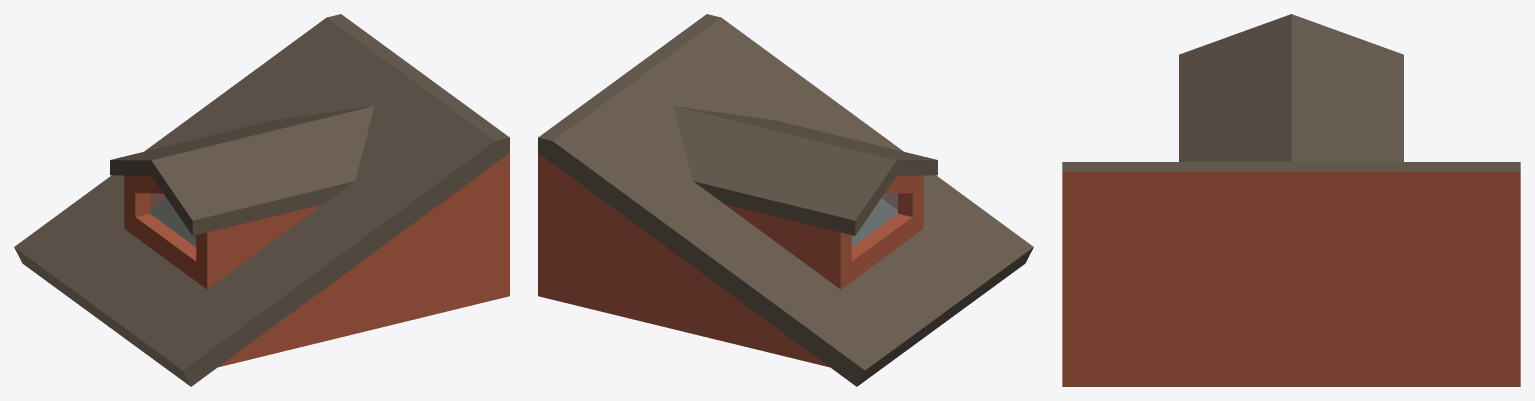
File: modularBuildings_063.obj
3 renders of one model, left to right at view 1: azimuth 30°, elevation 25°; view 2: azimuth 150°, elevation 25°; view 3: azimuth 270°, elevation 25°, orthographic. The views are drawn at different scales.
Visible parts, largest first — view 1: Mesh1 Group1 Model; view 2: Mesh1 Group1 Model; view 3: Mesh1 Group1 Model.
Boxes of the visible parts, x1,y1,x2,y2 form: Mesh1 Group1 Model: (14,14,509,386); Mesh1 Group1 Model: (538,14,1033,386); Mesh1 Group1 Model: (1062,14,1520,386).
Size of the model in its own units: 1.12 by 0.5612 by 1.
